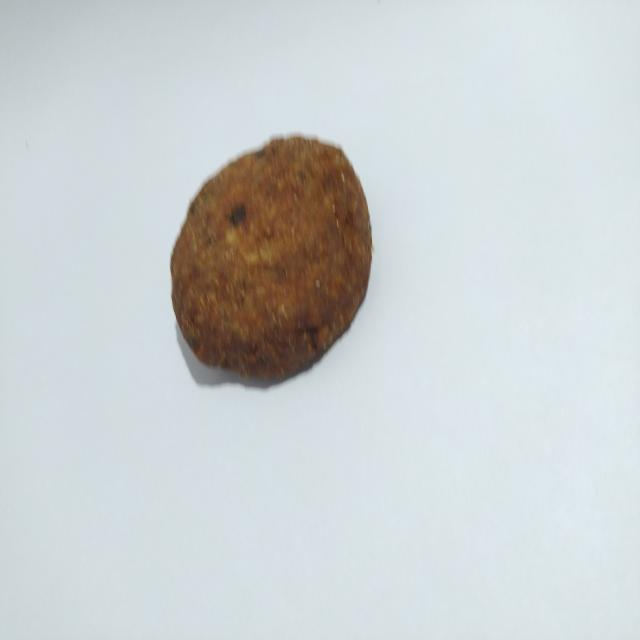Pajagua: (155, 120, 381, 392)
